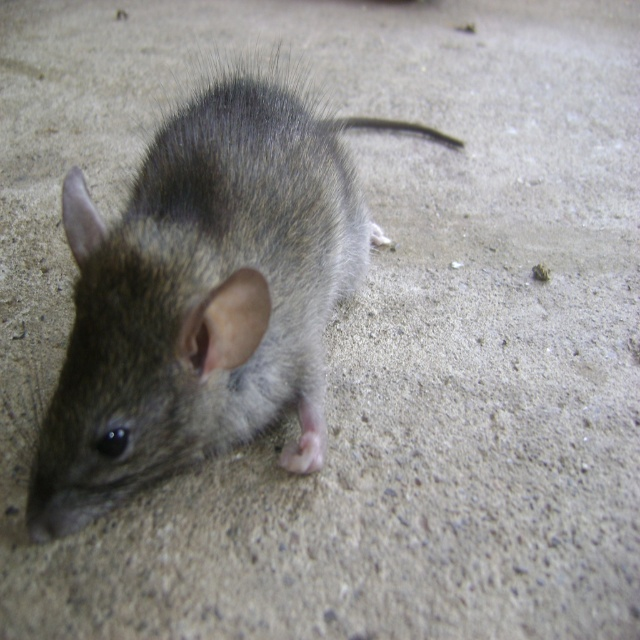Mouse: (0, 27, 466, 547)
